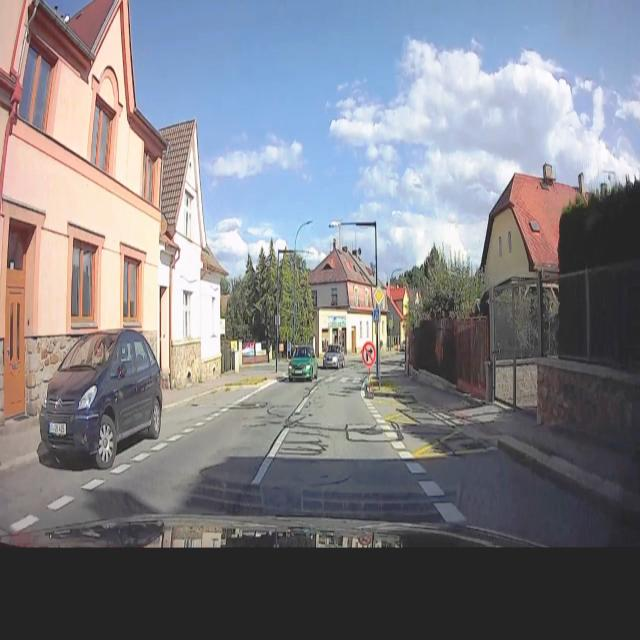Priority road: (374, 282, 386, 306)
